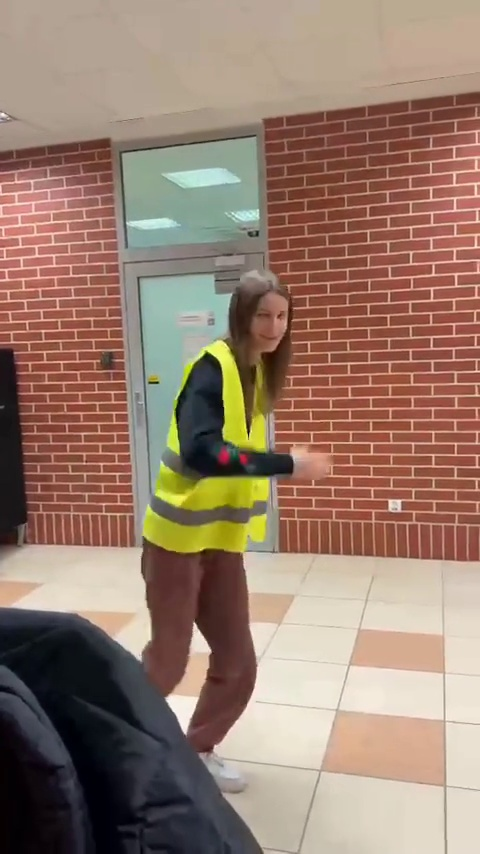vest: (139, 270, 304, 792)
